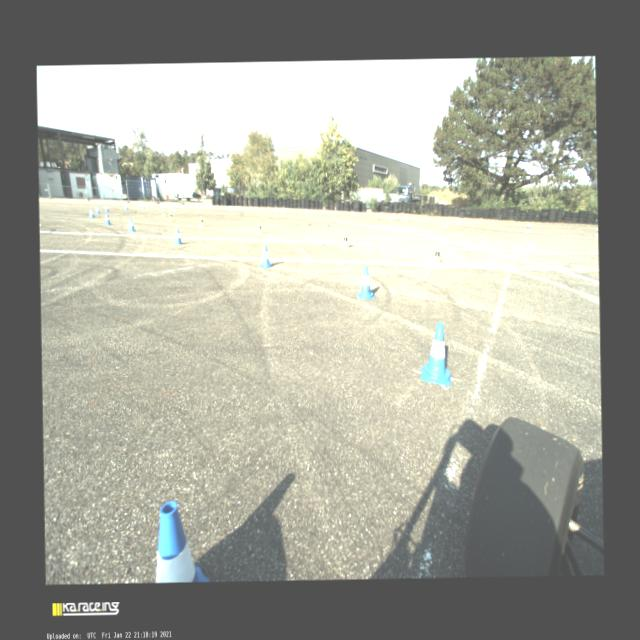blue_cone: (154, 500, 209, 582), (420, 322, 450, 387), (356, 265, 375, 299), (260, 244, 270, 267), (172, 228, 182, 244), (126, 218, 136, 231), (104, 213, 110, 224), (89, 208, 94, 217), (95, 206, 100, 213), (124, 202, 128, 210), (105, 204, 108, 211), (304, 208, 308, 213), (456, 218, 459, 224), (141, 203, 144, 208), (351, 211, 354, 216), (171, 204, 174, 208), (275, 206, 277, 212), (404, 214, 406, 220), (206, 204, 208, 209), (250, 206, 252, 210)
yellow_cone: (432, 245, 442, 265), (339, 232, 349, 248), (255, 221, 262, 234), (198, 216, 204, 227), (525, 224, 530, 232), (168, 211, 172, 220), (161, 208, 165, 216), (594, 228, 598, 236), (197, 204, 200, 210), (281, 208, 284, 214), (389, 215, 392, 221), (260, 208, 264, 212), (332, 212, 334, 218), (446, 220, 448, 226), (230, 206, 232, 210), (174, 206, 176, 210)
